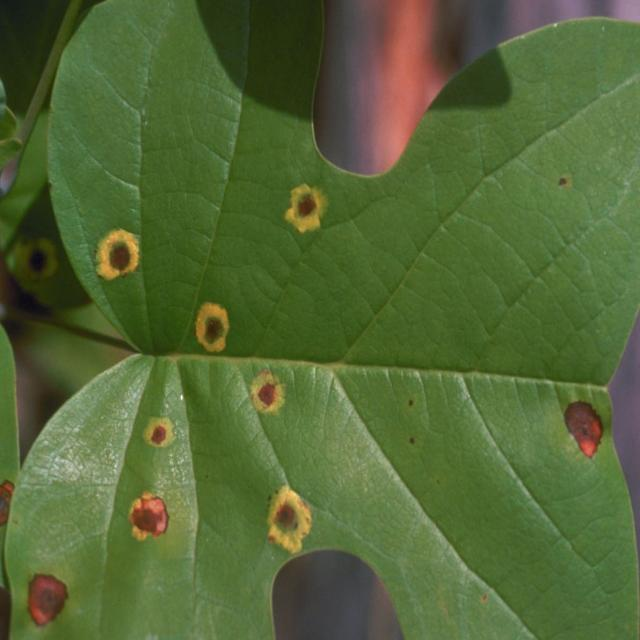Cotton Ball Rot: (264, 484, 314, 557), (93, 226, 143, 285), (561, 397, 606, 462), (282, 180, 328, 237), (126, 489, 172, 545), (192, 300, 232, 356), (246, 367, 288, 419), (140, 413, 178, 453)
Target Spot: (3, 4, 637, 638)
